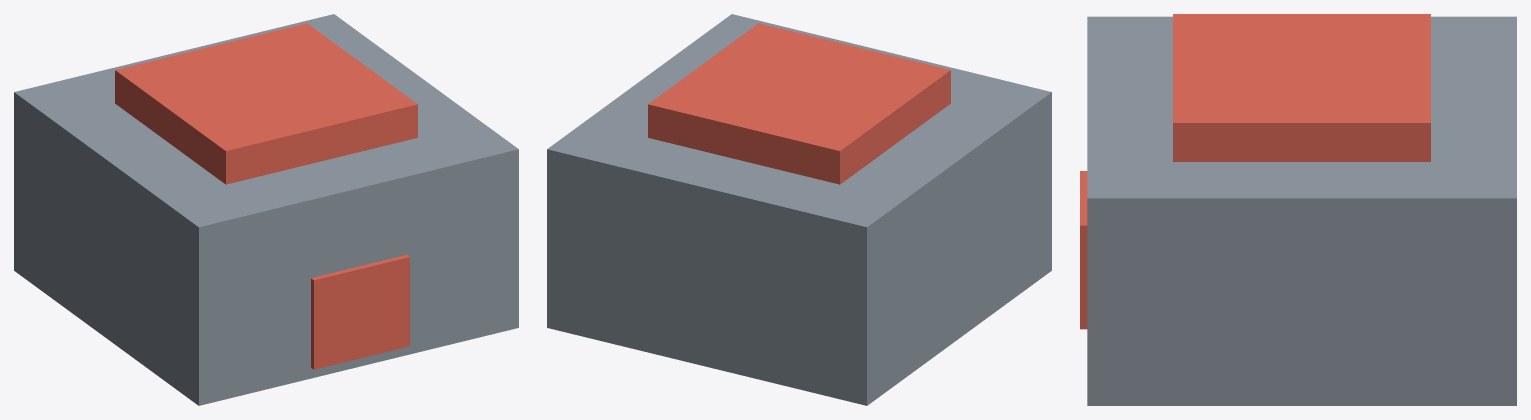
File: SU_Barracks_LOD0.glb
3 renders of one model, left to right at view 1: azimuth 30°, elevation 25°; view 2: azimuth 150°, elevation 25°; view 3: azimuth 270°, elevation 25°, orthographic. The views are drawn at different scales.
Parts seen in each view (by area): view 1: EntranceGate; view 2: EntranceGate; view 3: EntranceGate.
Boxes of the visible parts, x1=… form: EntranceGate: x1=14, y1=14, x2=518, y2=405; EntranceGate: x1=547, y1=14, x2=1051, y2=405; EntranceGate: x1=1080, y1=14, x2=1516, y2=405.
Bounding box in the file's own units: 600 × 380 × 610.
